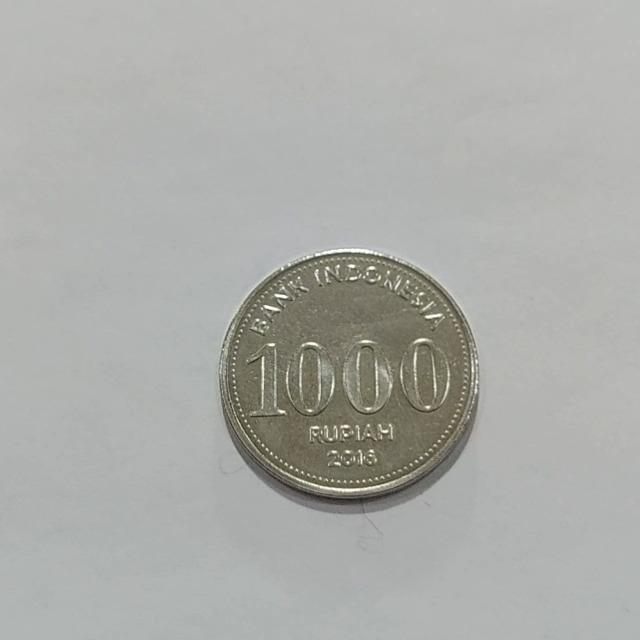Rp100: (216, 246, 480, 502)
